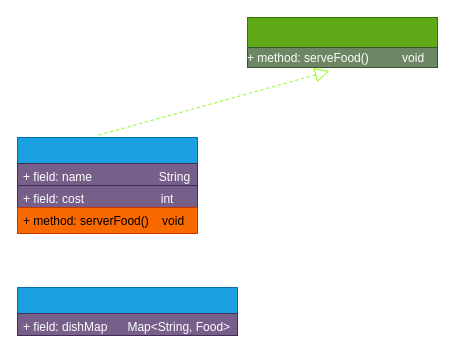
Some shapes in this 455 by 356 pixel diagram are drawn without their labels. The shapes that lost their labels are listed below. From the top down, each one's box as (x1, y1, x2, y2) in pixels, then its label:
(246, 16, 438, 48): «interface» Food
(16, 136, 198, 234): Dish
(16, 286, 238, 336): Restaurant
